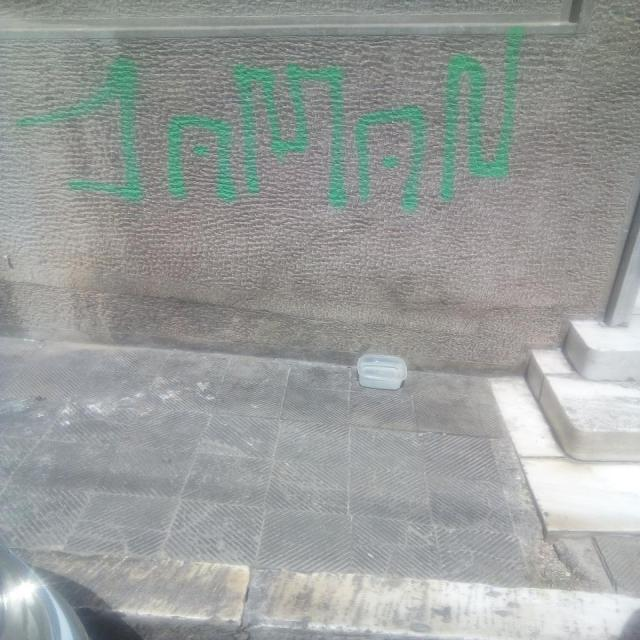nonspitting: (12, 22, 521, 210)
